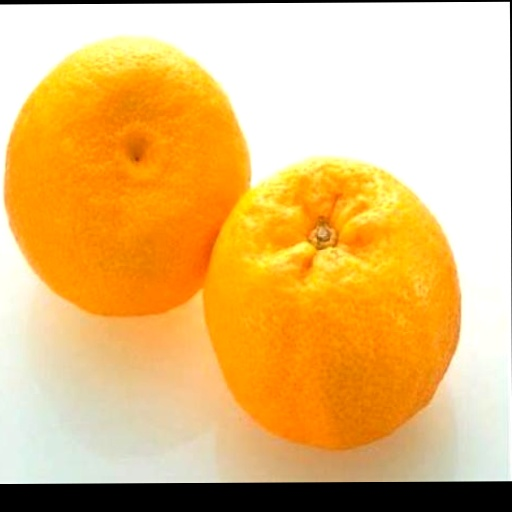fruit: (205, 158, 460, 448), (6, 37, 249, 315)
